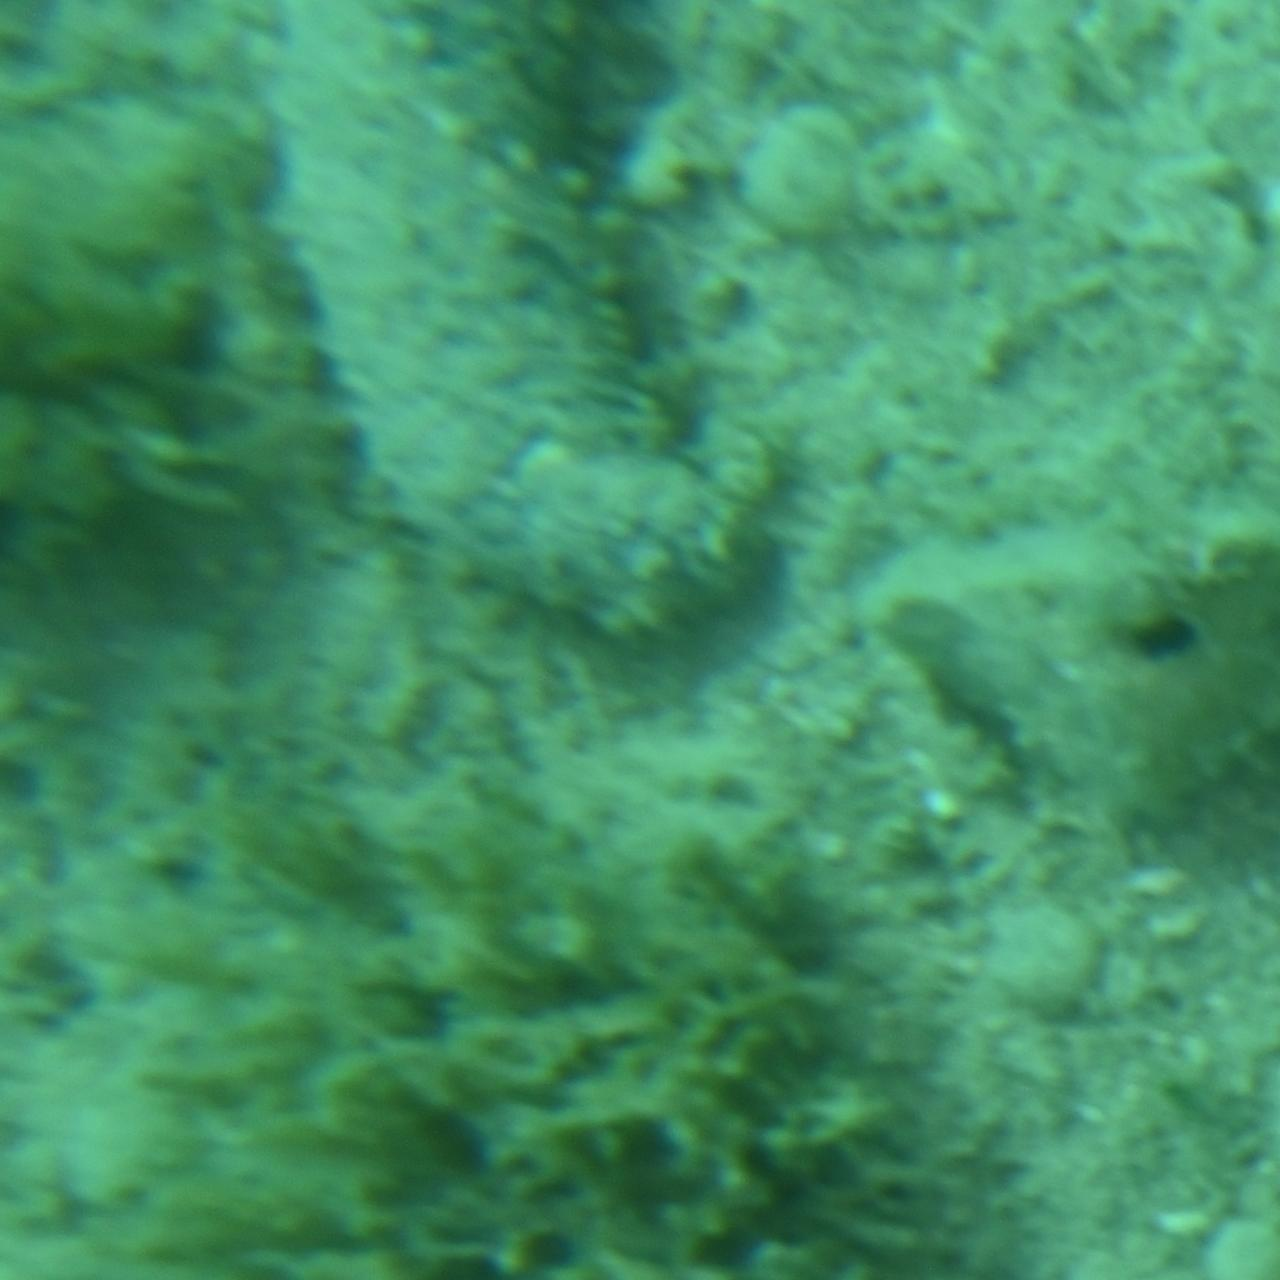Holothuria tubulosa: (295, 0, 763, 640)
Phaeophyceae -cfr Cystoseira-: (135, 680, 961, 1280)
